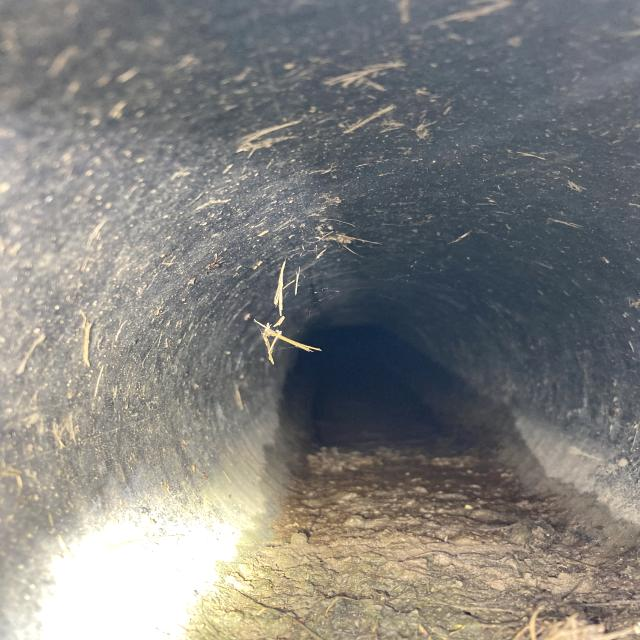dirt: (264, 439, 555, 586)
leaf: (514, 604, 624, 640)
root: (241, 303, 323, 367), (232, 117, 308, 159), (332, 58, 419, 92)
